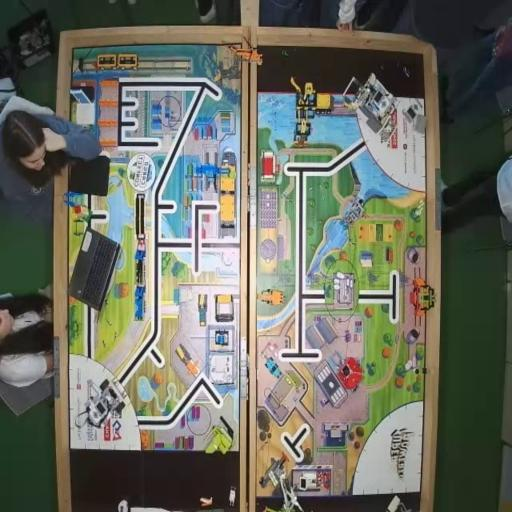lego_robot: (342, 72, 398, 144), (75, 377, 126, 431)
